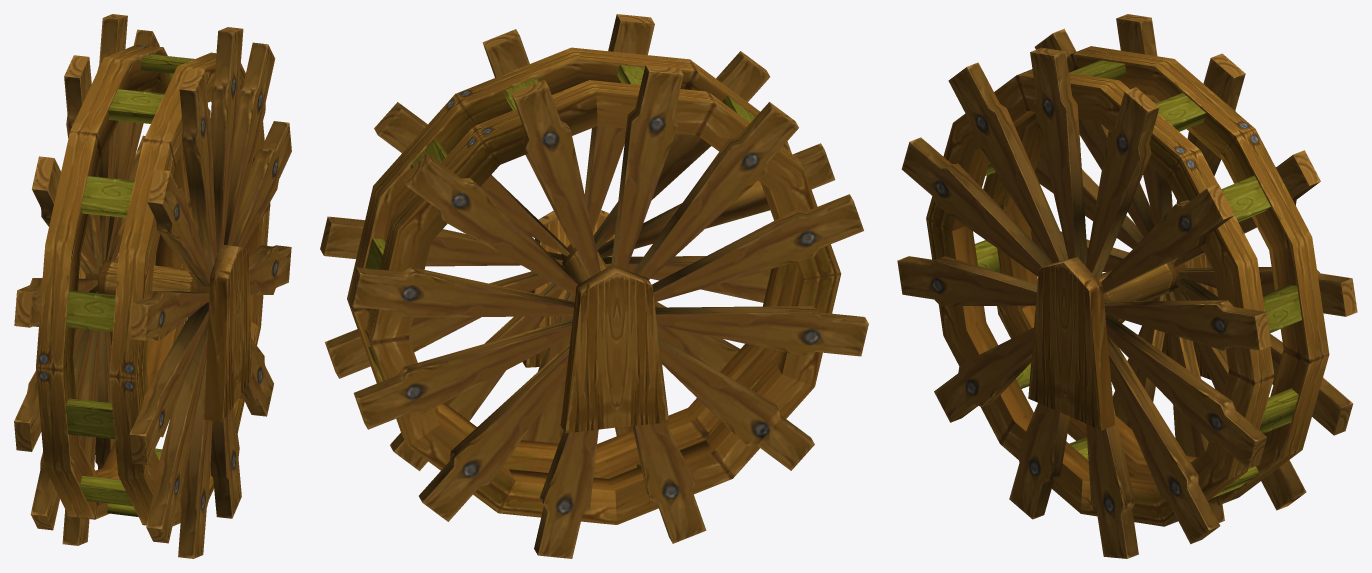
File: Cunluo_a1.FBX
3 views of the same model, side by side, from view 1: azimuth 30°, elevation 25°; view 2: azimuth 150°, elevation 25°; view 3: azimuth 270°, elevation 25° (orthographic).
Visible parts, largest first — view 1: Object149; view 2: Object149; view 3: Object149.
Boxes of the visible parts, x1=… form: Object149: x1=14, y1=14, x2=291, y2=558; Object149: x1=320, y1=14, x2=868, y2=558; Object149: x1=897, y1=14, x2=1357, y2=558.
Size of the model in its own units: 479 by 534 by 468.
